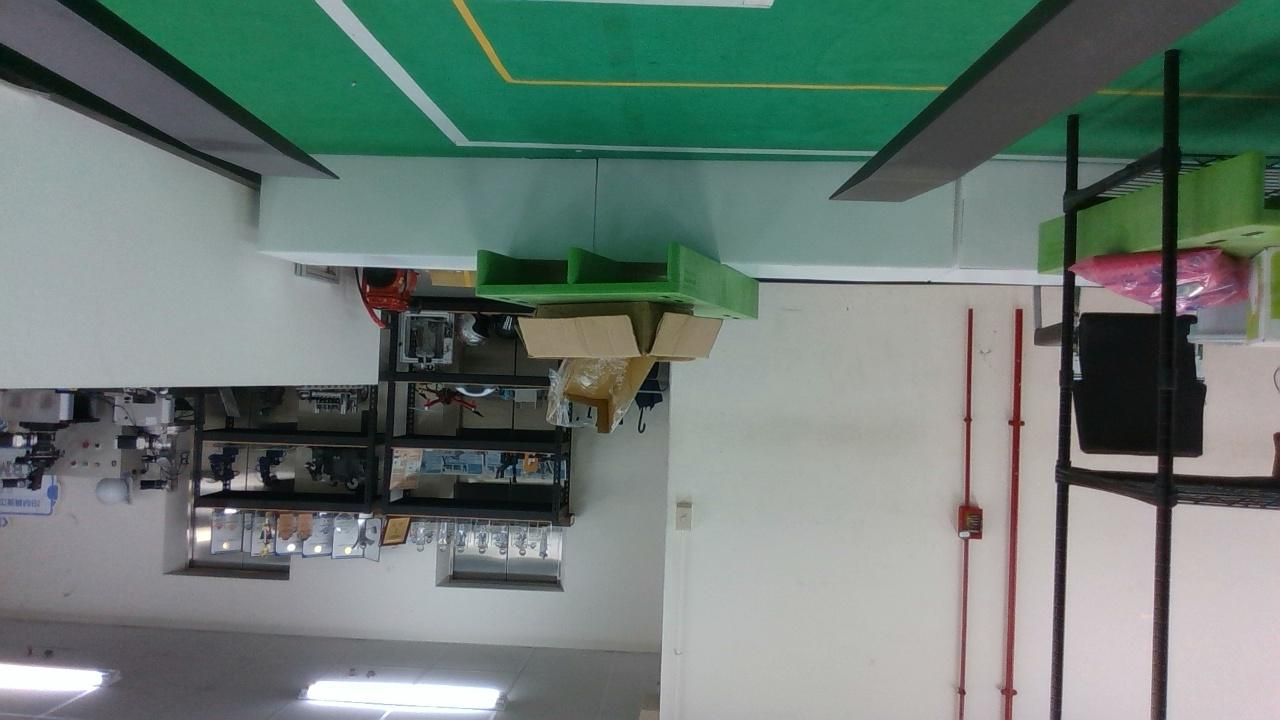Pallet: (466, 240, 687, 300)
